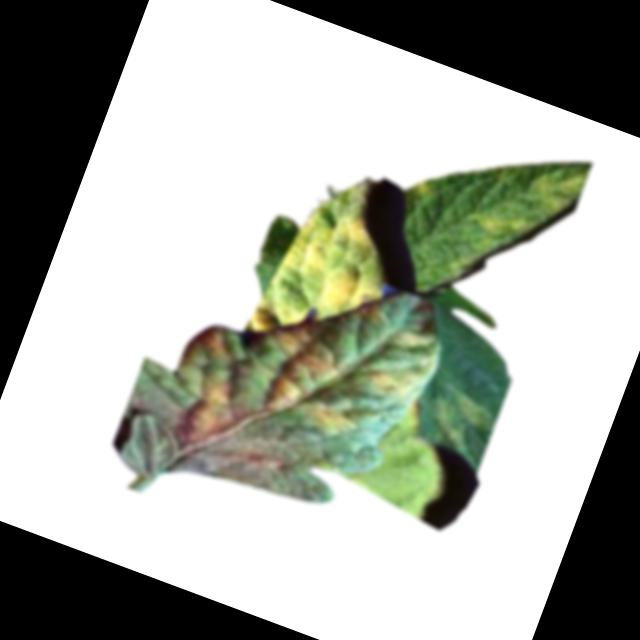Leaf_Mold: (244, 191, 399, 370), (256, 345, 336, 428), (174, 370, 239, 452), (526, 154, 589, 216), (466, 202, 534, 249), (298, 398, 359, 445), (354, 359, 414, 403), (413, 173, 433, 194)
